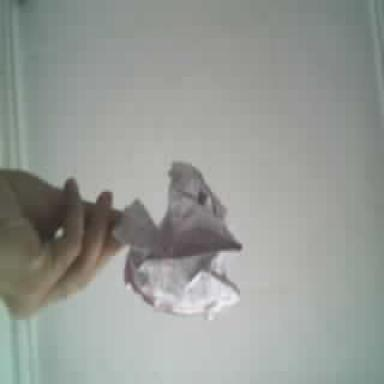paper: (114, 162, 241, 315)
